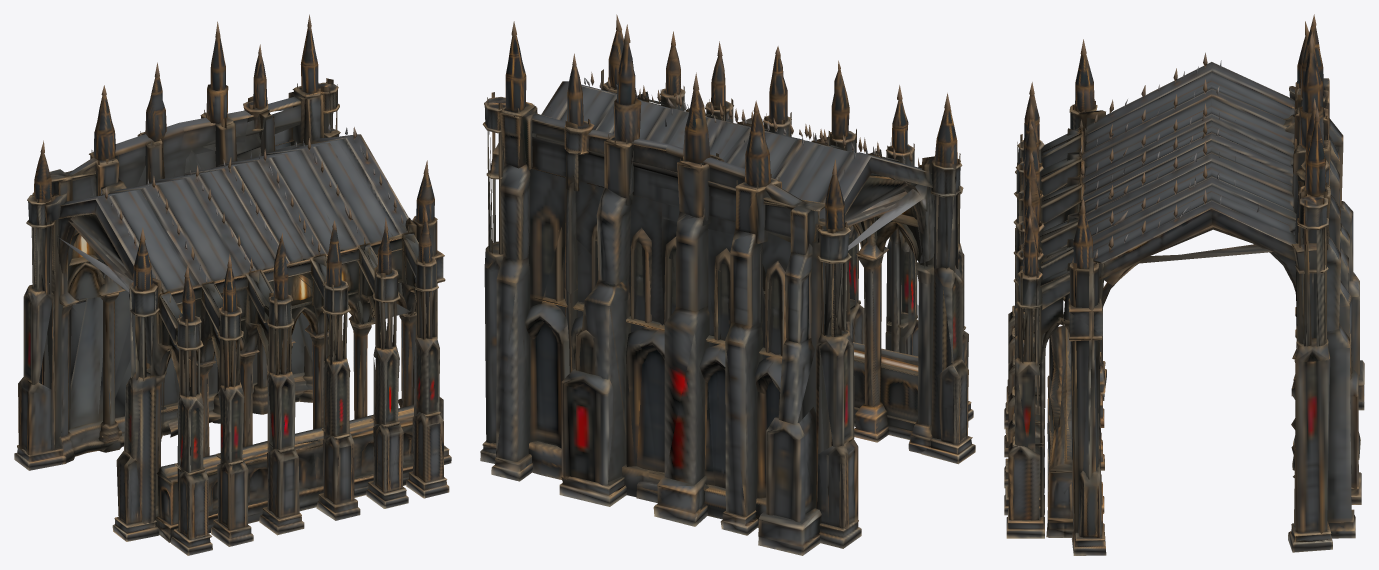
Rendered from Meshy_AI_Cathedral_Nave_Hall_L_1031115507_texture.glb.
3 views of the same model, side by side, from view 1: azimuth 30°, elevation 25°; view 2: azimuth 150°, elevation 25°; view 3: azimuth 270°, elevation 25° (orthographic). The views are drawn at different scales.
Visible parts, largest first — view 1: geometry_0; view 2: geometry_0; view 3: geometry_0.
Part boxes in pixels (box(x1,y1,x2,y2)): geometry_0: box(14, 14, 451, 555); geometry_0: box(480, 14, 975, 555); geometry_0: box(1004, 14, 1364, 555).
Bounding box in the file's own units: 0.8091 × 0.9487 × 0.6855.
Materials: 1 (1 with a texture image).
